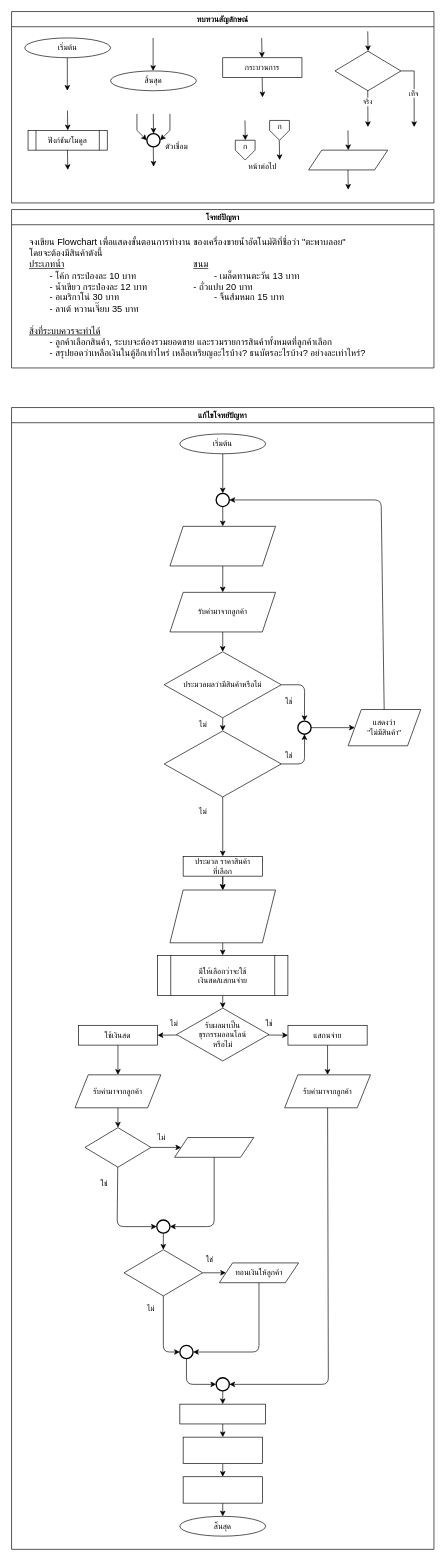
This 446x1561 diagram has some shape labels left out. The centre of each missing label's shape, as x and y in pixels:
ต้องทอนเงินหรือไม่: point (163, 1272)
ประมวล สินค้า ที่เหลือ: point (222, 1450)
ประมวล เงินที่ ที่เหลือ: point (222, 1489)
ประมวลผลว่าสินค้า หมดอายุหรือไม่: point (222, 763)
ประโยคเงื่อนไข: point (367, 70)
ส่งสินค้า ชิ้นที่ลูกค้าเลือก: point (222, 1413)
เงินพอหรือไม่: point (117, 1147)
แสดงบนหน้าจอว่า "ต้องชำระเงิน จำนวณ X บาท": point (222, 916)
แสดงผล/รับค่า: point (348, 159)
แสดงผลรายการสินค้า: point (222, 546)
ไม่พอให้ใส่เงินเพิ่ม: point (214, 1147)
